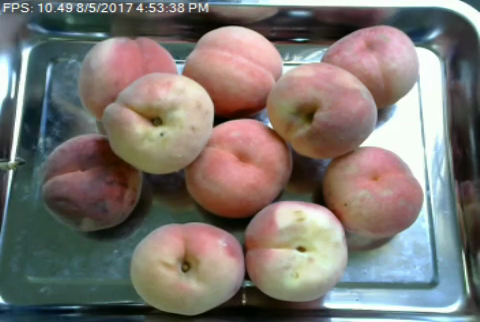Peach: (102, 72, 216, 173), (265, 63, 378, 162), (243, 199, 350, 303), (182, 118, 291, 218), (129, 223, 245, 316), (39, 134, 141, 232), (321, 146, 424, 241), (182, 25, 283, 114), (81, 35, 179, 121), (320, 24, 419, 105)
